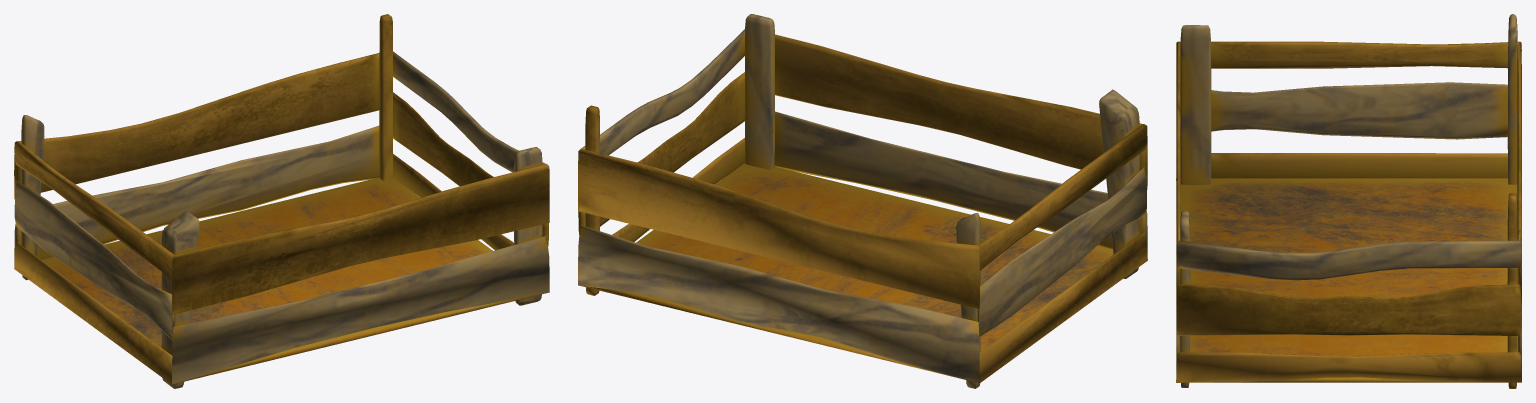
File: Woodbox.fbx
The picture shows the model from 3 angles, left to right: view 1: azimuth 30°, elevation 25°; view 2: azimuth 150°, elevation 25°; view 3: azimuth 270°, elevation 25°; orthographic projection. The views are drawn at different scales.
Visible parts, largest first — view 1: WoodboxL; view 2: WoodboxL; view 3: WoodboxL.
Boxes of the visible parts, left/top/right/bottom form: WoodboxL: left=14, top=14, right=549, bottom=388; WoodboxL: left=578, top=14, right=1147, bottom=388; WoodboxL: left=1176, top=14, right=1521, bottom=388.
Bounding box in the file's own units: 53.47 × 23.8 × 38.7.
